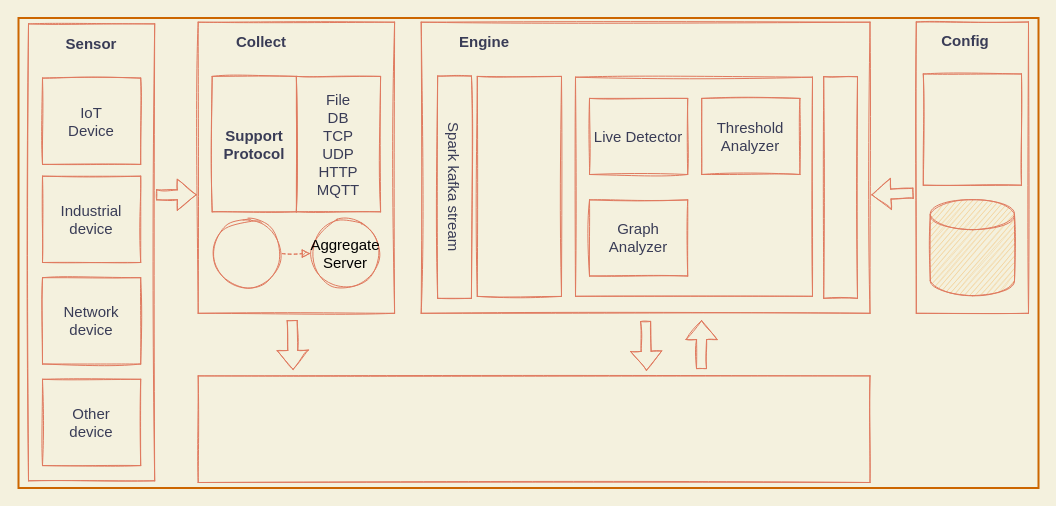
Some shapes in this 1056 by 506 pixel diagram are drawn without their labels. Here are the shapes that lost their labels. From the top down, the box of each, then its label:
(922, 73, 1022, 185): Admin UI
(476, 75, 562, 296): Normalizer
(823, 76, 858, 298): Zookeeper
(211, 218, 282, 289): Collect Agent
(929, 199, 1014, 296): Reference data
(197, 375, 870, 482): Kafka
